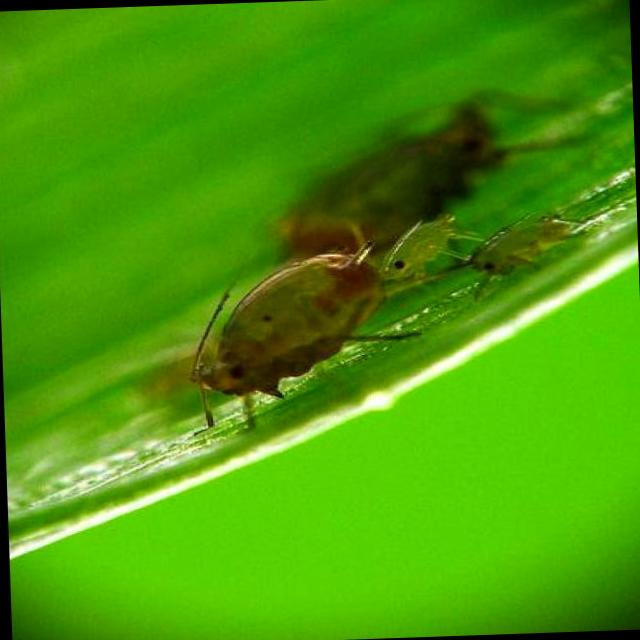aphid: (158, 216, 374, 432), (448, 198, 572, 288), (364, 203, 476, 290)
